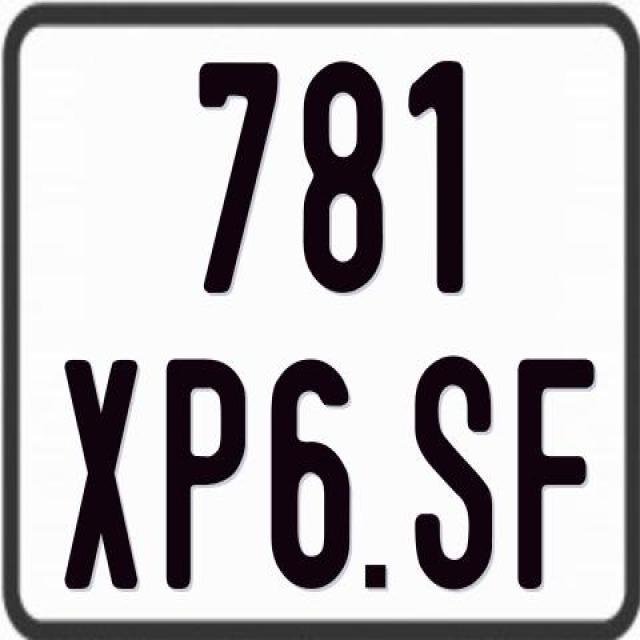1: (404, 58, 466, 292)
6: (266, 360, 350, 589)
7: (196, 59, 275, 294)
8: (301, 61, 387, 301)
F: (514, 357, 594, 587)
P: (163, 355, 249, 595)
S: (412, 353, 496, 592)
X: (61, 356, 140, 594)
